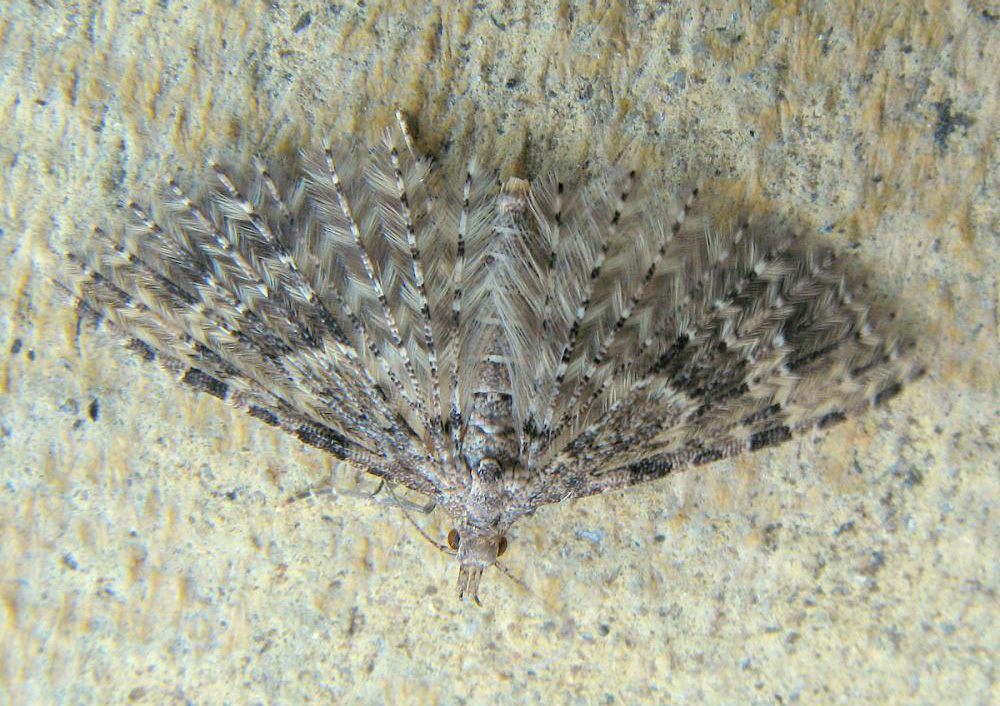Alucitidae: (64, 92, 939, 609)
moth: (66, 94, 941, 611)
